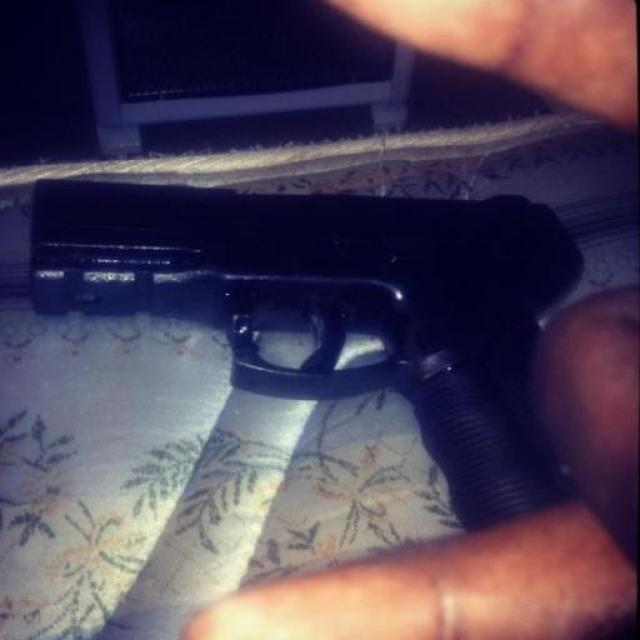pistol: (29, 178, 594, 539)
